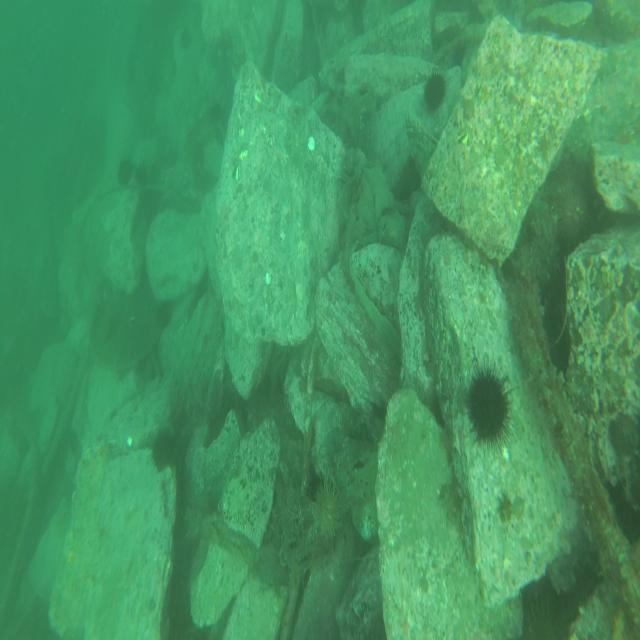echinus: (464, 354, 516, 461), (549, 166, 593, 249), (308, 474, 348, 546), (420, 64, 450, 115)
